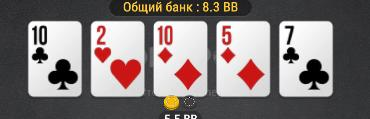10c: (28, 22, 81, 96)
10d: (155, 23, 207, 96)
2h: (92, 22, 144, 96)
5d: (218, 23, 269, 96)
7c: (280, 23, 332, 95)
